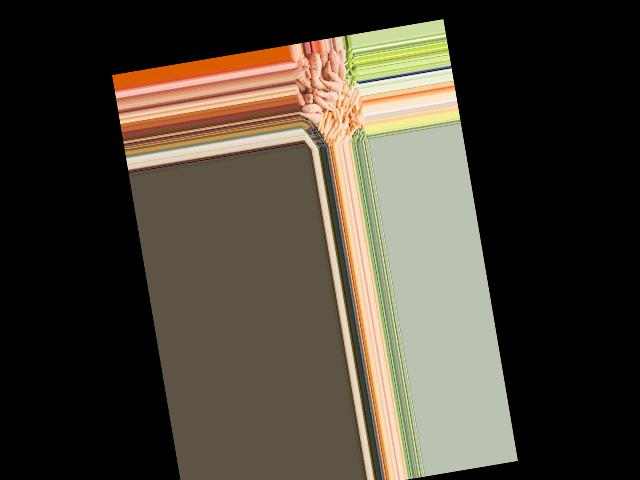carrot: (320, 110, 334, 133)
